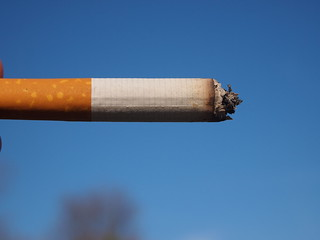cigarette: (1, 73, 245, 125)
